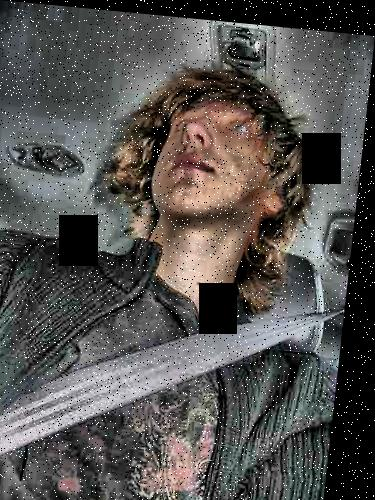seatbelt: (0, 273, 331, 444)
